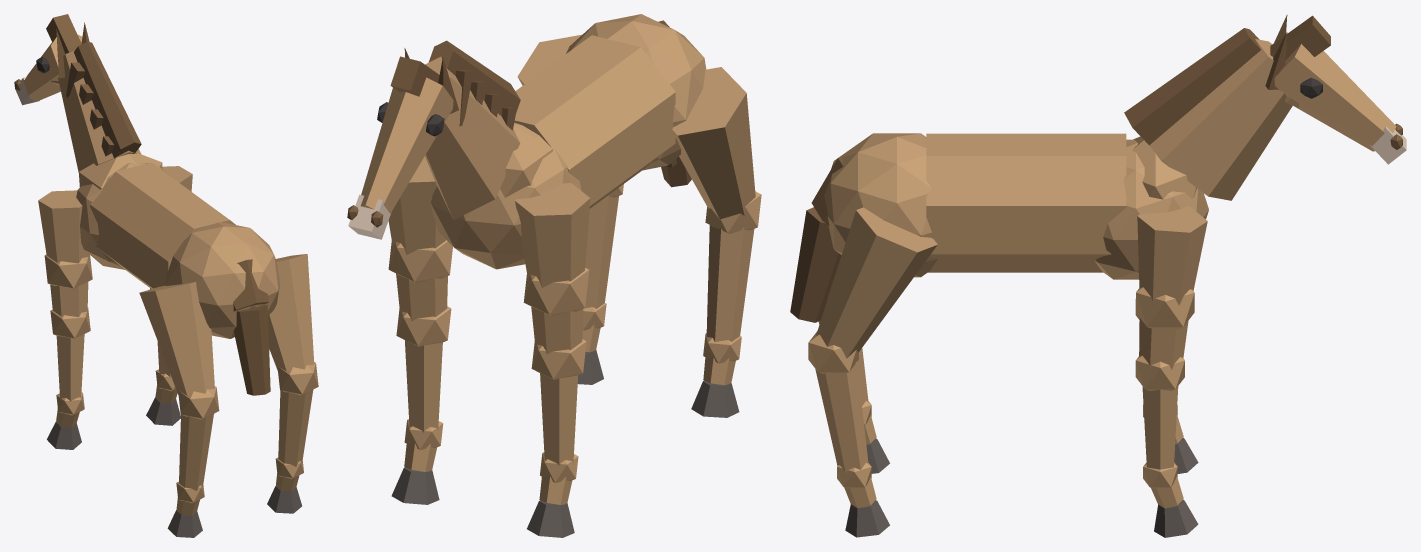
File: horse.glb
3 renders of one model, left to right at view 1: azimuth 30°, elevation 25°; view 2: azimuth 150°, elevation 25°; view 3: azimuth 270°, elevation 25°, orthographic. The views are drawn at different scales.
Visible parts, largest first — view 1: HorseBody; view 2: HorseBody; view 3: HorseBody.
Boxes of the visible parts, left/top/right/bottom form: HorseBody: left=14, top=14, right=318, bottom=537; HorseBody: left=347, top=14, right=761, bottom=537; HorseBody: left=790, top=14, right=1406, bottom=537.
Size of the model in its own units: 0.9204 by 2.17 by 2.53.
